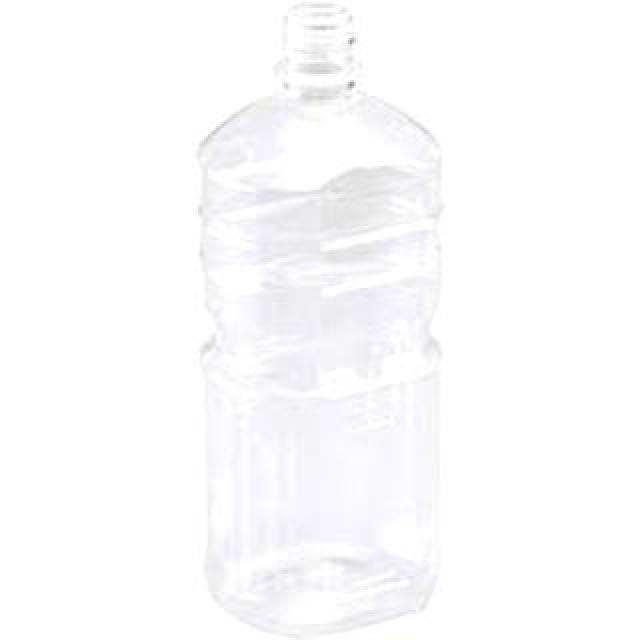Pet_Bottle: (195, 22, 441, 640)
